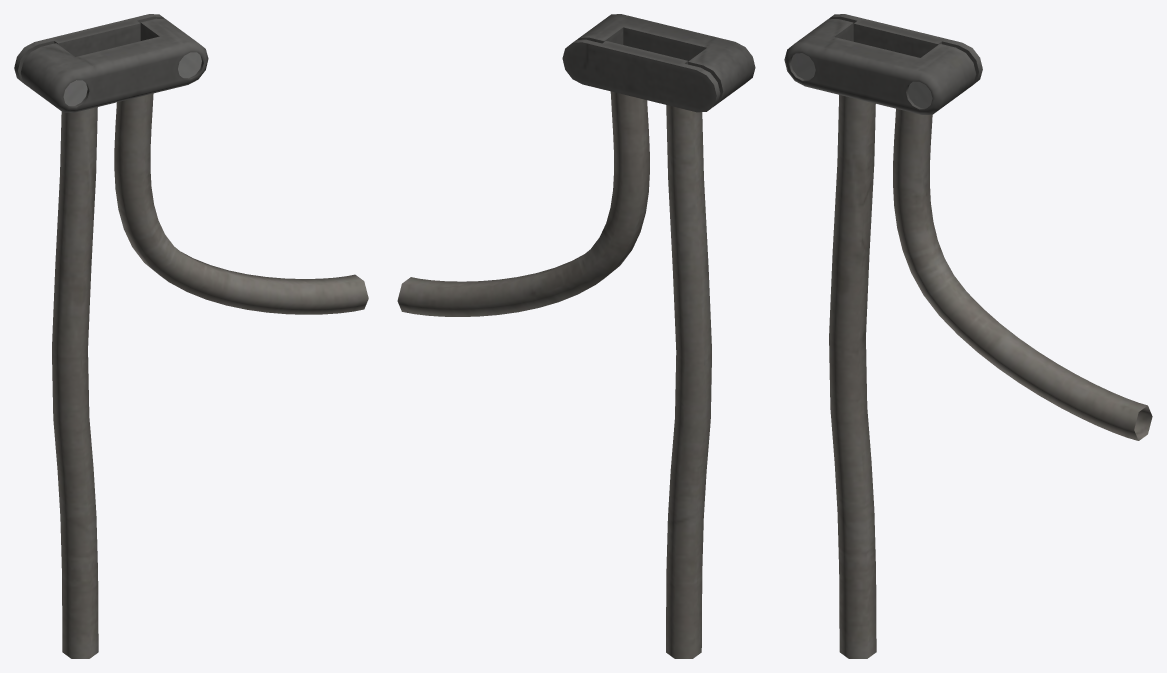
File: cable_to_double_4.glb
3 renders of one model, left to right at view 1: azimuth 30°, elevation 25°; view 2: azimuth 150°, elevation 25°; view 3: azimuth 330°, elevation 25°, orthographic. The views are drawn at different scales.
Visible parts, largest first — view 1: cable_to_double_4.001; view 2: cable_to_double_4.001; view 3: cable_to_double_4.001.
Part boxes in pixels (x1,y1,x2,y2): cable_to_double_4.001: [14, 14, 368, 658]; cable_to_double_4.001: [397, 14, 755, 658]; cable_to_double_4.001: [784, 14, 1152, 658].
Size of the model in its own units: 0.1178 by 0.2072 by 0.0259.
1 material, 1 textured.
